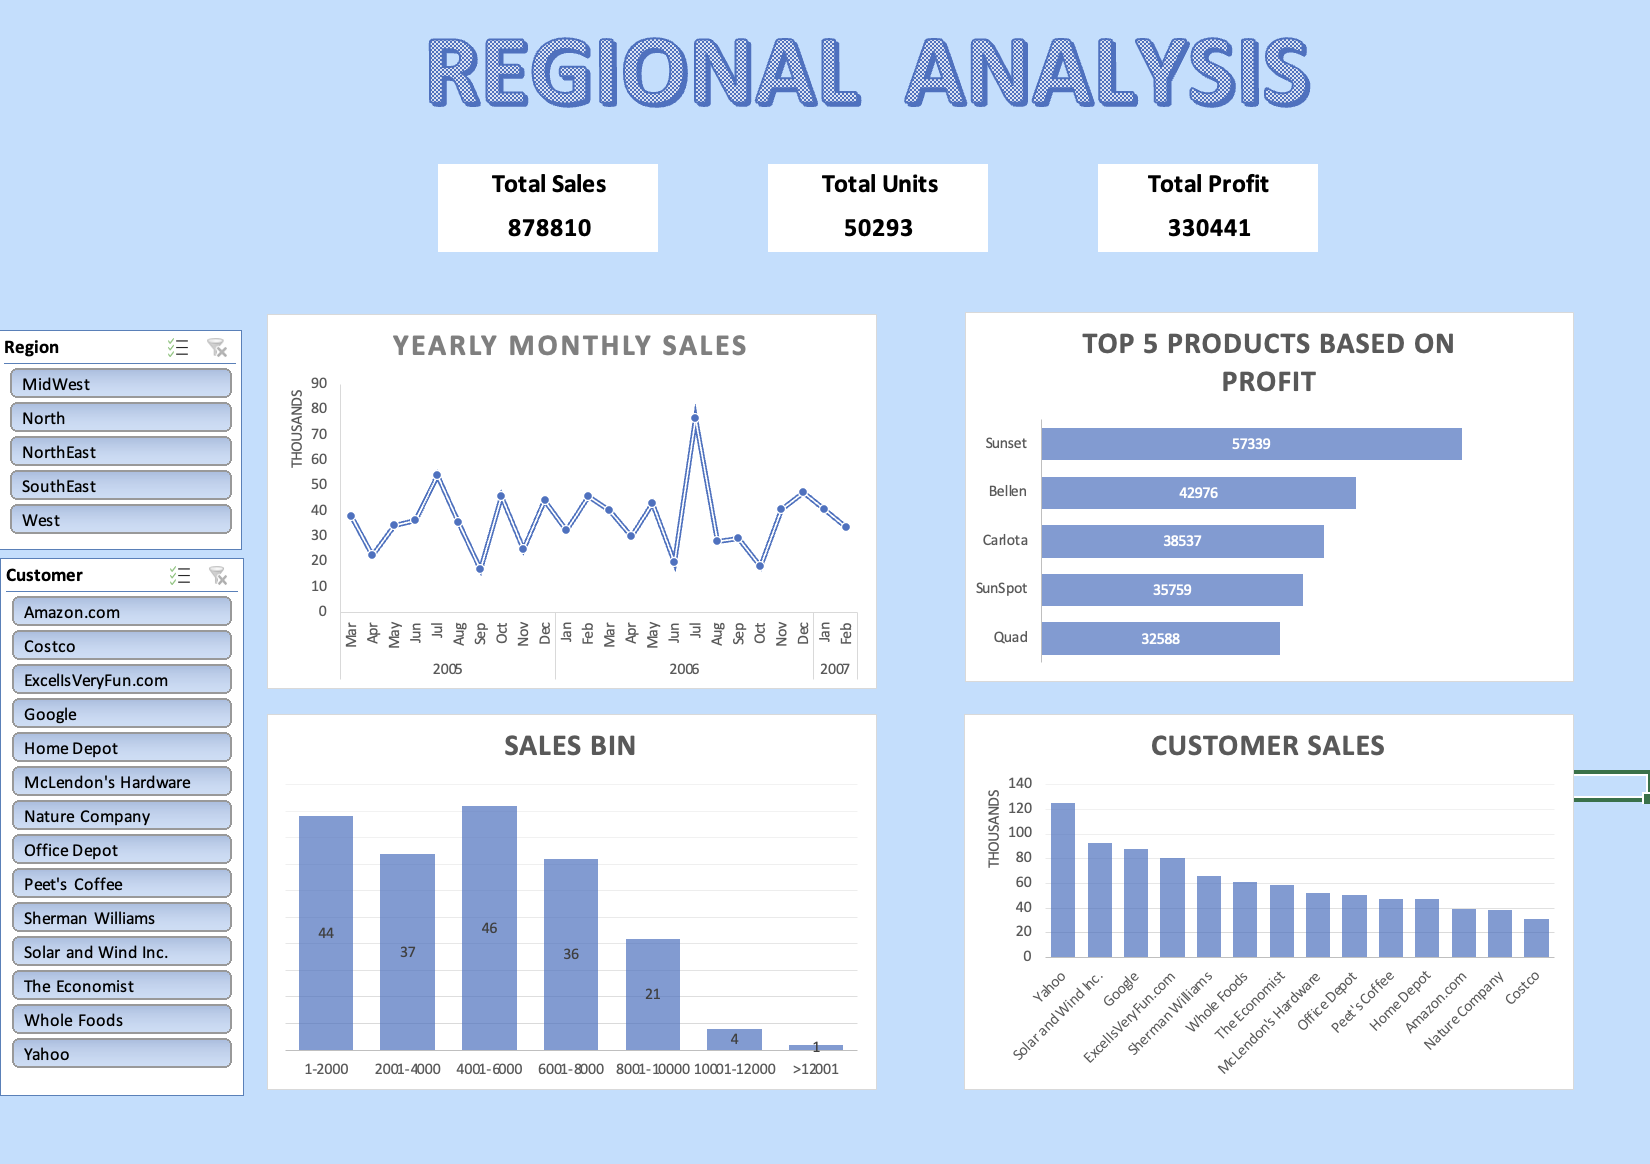

The page's visual inventory and layout, read from the dashboard file:
{"tool":"tableau","page":{"name":"REGIONAL CUSTOMER SALES","canvas":[1000,1000],"units":"permille","ordinal":0},"visuals":[{"type":"title","box":[6.7,10.4,986.7,85.8]},{"type":"worksheet","title":"Sales Trend","mark":"Automatic","rows":["Sales"],"cols":["Date"],"box":[6.7,96.2,493.3,371.6]},{"type":"worksheet","title":"Sales Bin Analysis","mark":"Automatic","rows":["Sales"],"cols":["Sales (bin)"],"box":[500,96.2,493.4,482.9]},{"type":"worksheet","title":"Customer Total Sales","mark":"Automatic","rows":["Sales"],"cols":["Customer"],"box":[6.7,467.8,493.3,521.8]},{"type":"worksheet","title":"Top 5 Product Based on Profit","mark":"Automatic","rows":["Product"],"cols":["Gross Profit"],"box":[500,579.1,493.4,410.5]}]}

Visuals, with their boxes on the dashboard's canvas, which has no fixed pixel size, in thousandths of its width and height (x1, y1, x2, y2). These are canvas units, not pixel positions in the 1650x1164 screenshot, which may show the page scaled, cropped or inside an application window:
title: <region>7, 10, 993, 96</region>
"Sales Trend" worksheet: <region>7, 96, 500, 468</region>
"Sales Bin Analysis" worksheet: <region>500, 96, 993, 579</region>
"Customer Total Sales" worksheet: <region>7, 468, 500, 990</region>
"Top 5 Product Based on Profit" worksheet: <region>500, 579, 993, 990</region>
